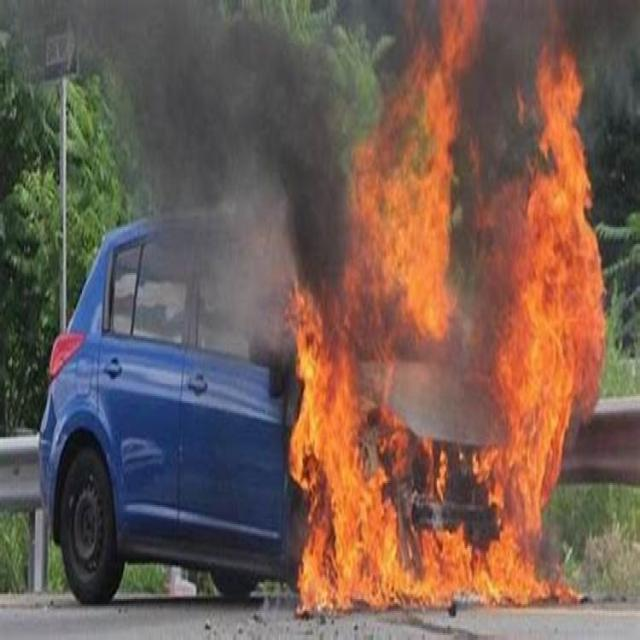Fire: (294, 329, 394, 605), (497, 177, 601, 437), (372, 124, 446, 305), (480, 458, 550, 606)
